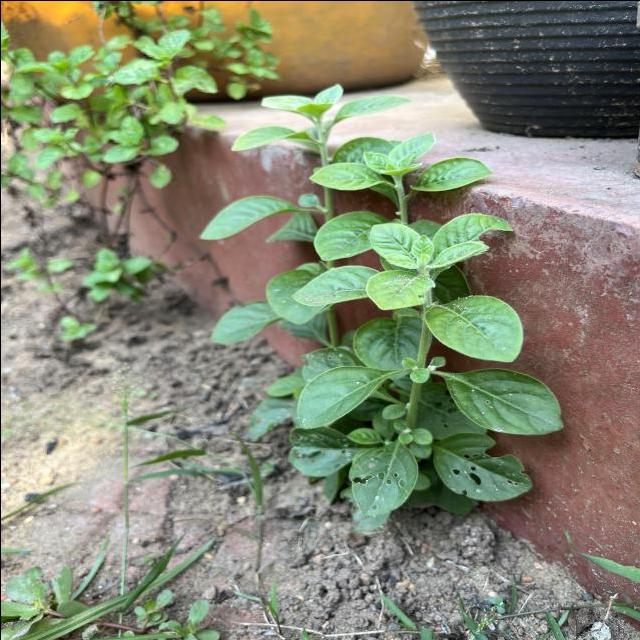Aerva lanata: (444, 364, 564, 438), (421, 291, 525, 364), (287, 262, 380, 307)
